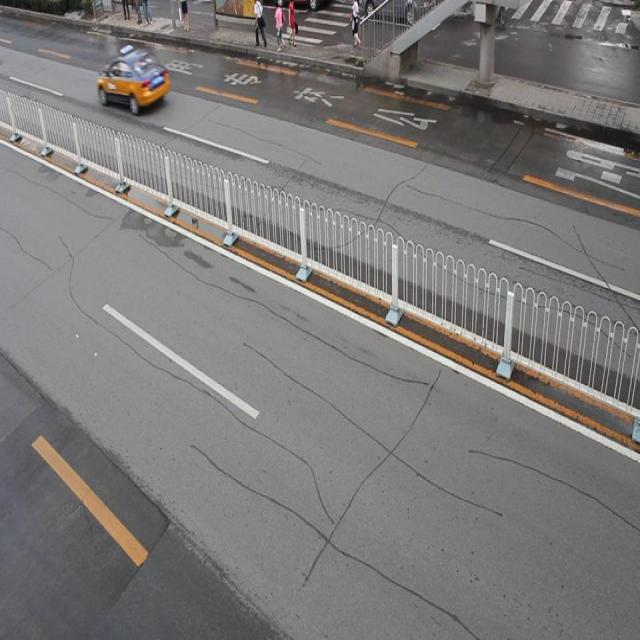car: (98, 47, 170, 114)
